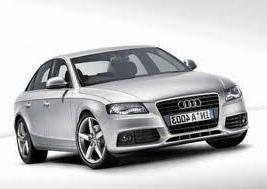Car: (9, 36, 253, 175)
